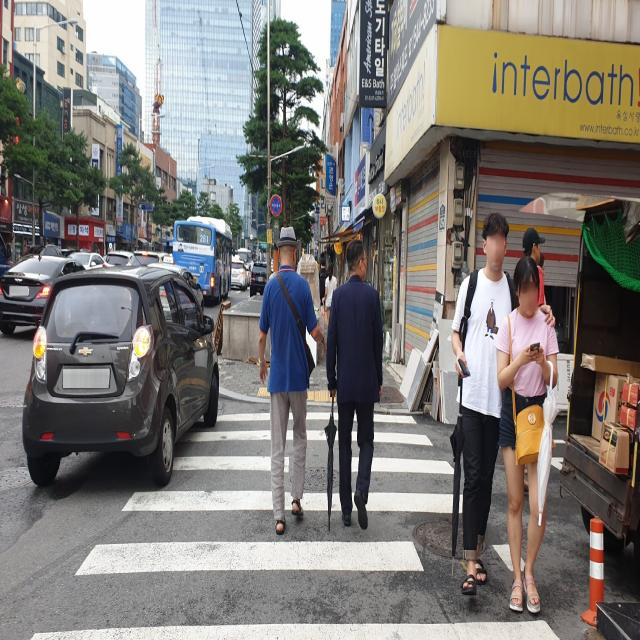횡단보도: (27, 404, 563, 640)
